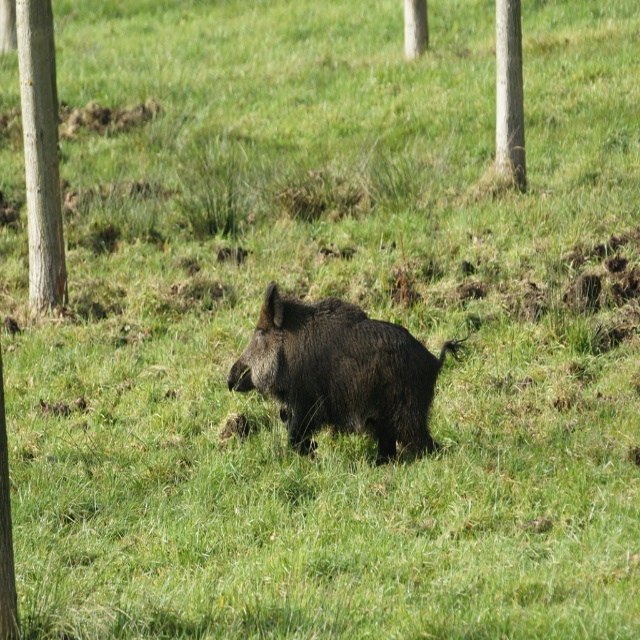Pig: (225, 279, 473, 466)
